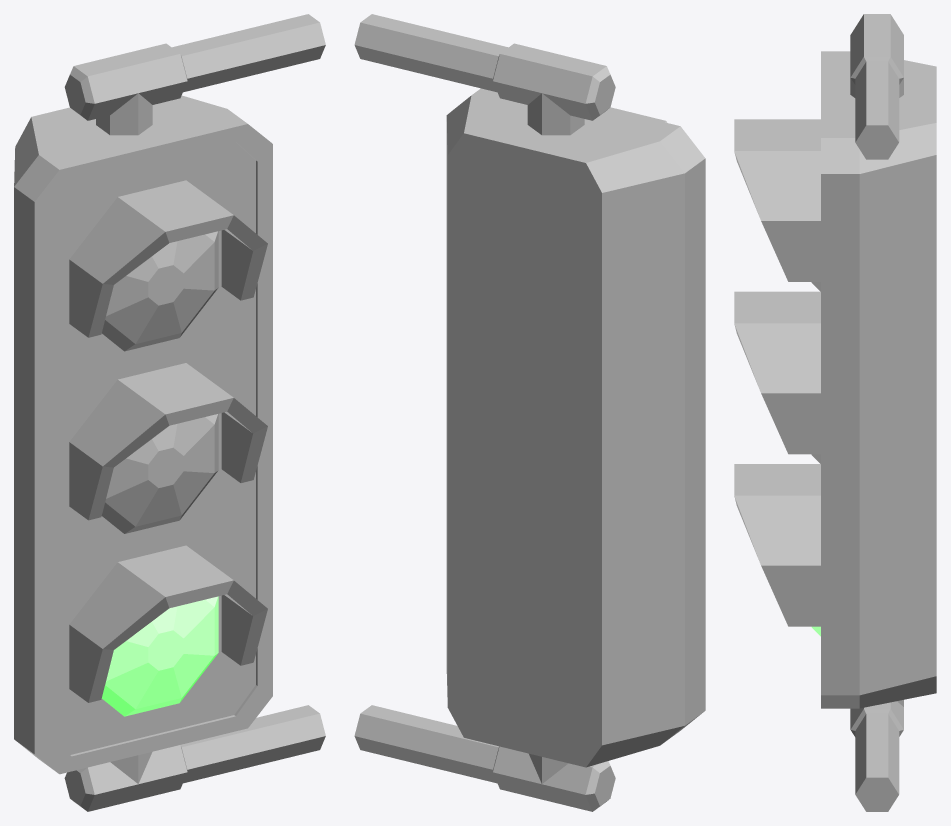
Rendered from SM_Envr_Road_Props_TrafficSignal_Separate.fbx.
3 renders of one model, left to right at view 1: azimuth 30°, elevation 25°; view 2: azimuth 150°, elevation 25°; view 3: azimuth 270°, elevation 25°, orthographic. The views are drawn at different scales.
Visible parts, largest first — view 1: SM_Envr_Road_Props_TrafficSignal_Separate; view 2: SM_Envr_Road_Props_TrafficSignal_Separate; view 3: SM_Envr_Road_Props_TrafficSignal_Separate.
Boxes of the visible parts, <box> form: SM_Envr_Road_Props_TrafficSignal_Separate: <box>14,14,325,811</box>; SM_Envr_Road_Props_TrafficSignal_Separate: <box>354,14,705,811</box>; SM_Envr_Road_Props_TrafficSignal_Separate: <box>734,14,936,811</box>.
Bounding box in the file's own units: 50.44 × 115 × 30.29.
